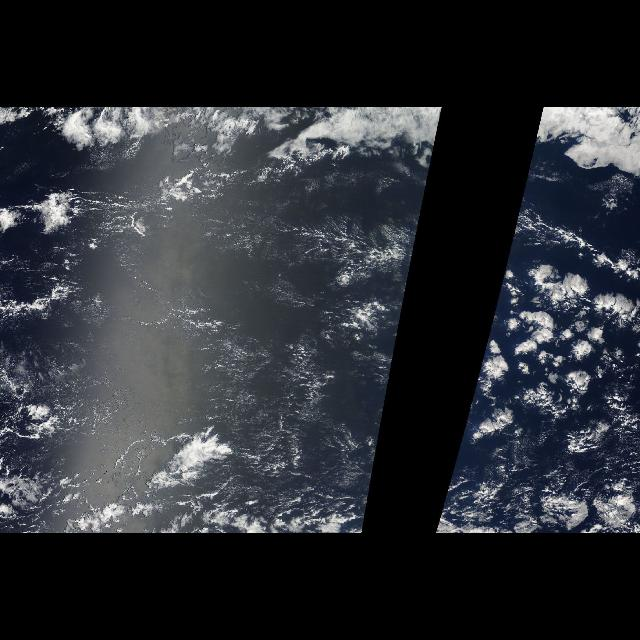Flower: (455, 238, 639, 457), (400, 237, 416, 321)
Sugar: (8, 225, 360, 520)
